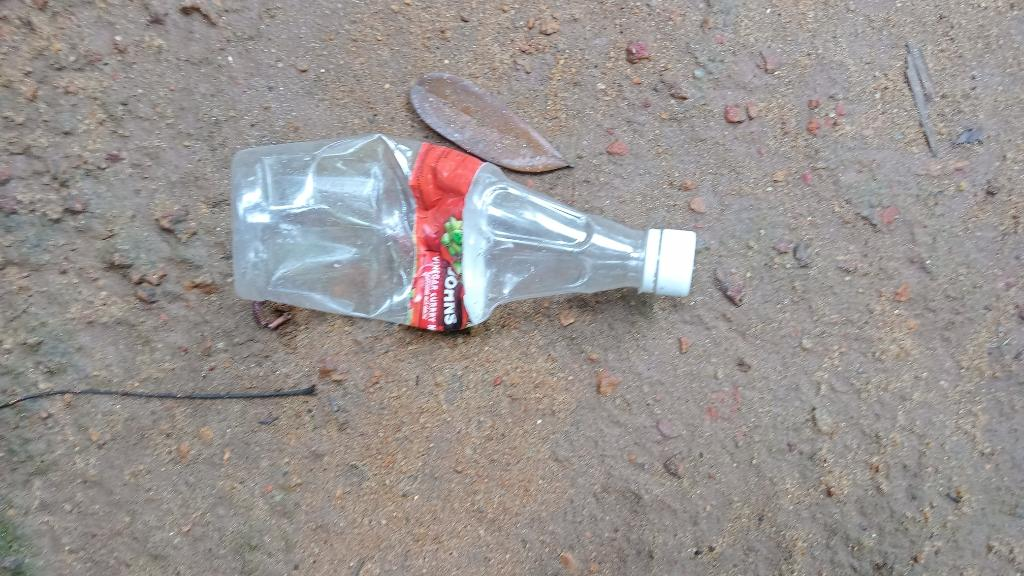garbage: (206, 105, 708, 348)
